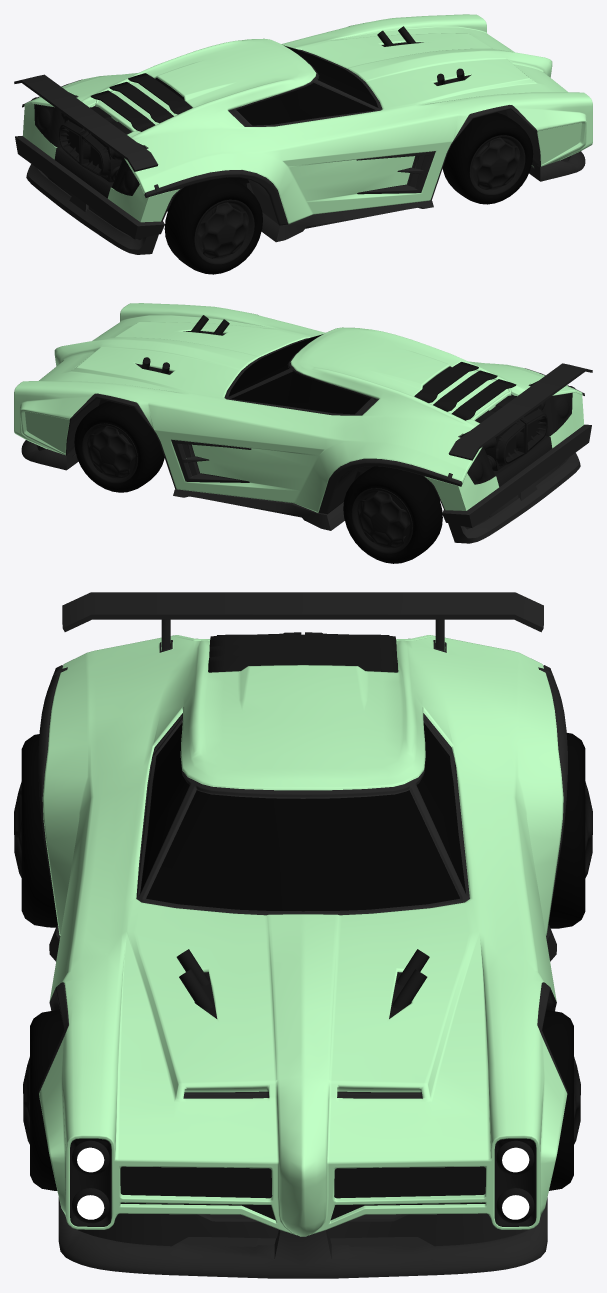
The picture shows the model from 3 angles, top to bottom: view 1: azimuth 30°, elevation 25°; view 2: azimuth 150°, elevation 25°; view 3: azimuth 270°, elevation 25°; orthographic projection. The views are drawn at different scales.
Visible parts, largest first — view 1: Dominus, Cristiano - BR (Dominus), Cristiano - FR (Dominus); view 2: Dominus, Cristiano - BL (Dominus), Cristiano - FL (Dominus); view 3: Dominus, Cristiano - BL (Dominus), Cristiano - BR (Dominus), Cristiano - FR (Dominus), Cristiano - FL (Dominus).
Boxes of the visible parts, bbox=[...] form: Dominus: bbox=[14, 14, 592, 254]; Cristiano - BR (Dominus): bbox=[164, 177, 262, 274]; Cristiano - FR (Dominus): bbox=[442, 112, 533, 204]; Dominus: bbox=[14, 303, 592, 543]; Cristiano - BL (Dominus): bbox=[343, 466, 442, 563]; Cristiano - FL (Dominus): bbox=[74, 401, 164, 492]; Dominus: bbox=[38, 592, 567, 1278]; Cristiano - BL (Dominus): bbox=[548, 733, 592, 928]; Cristiano - BR (Dominus): bbox=[14, 734, 57, 927]; Cristiano - FR (Dominus): bbox=[23, 1010, 64, 1190]; Cristiano - FL (Dominus): bbox=[542, 1010, 580, 1190].
Size of the model in its own units: 44.53 by 12.38 by 23.34.
